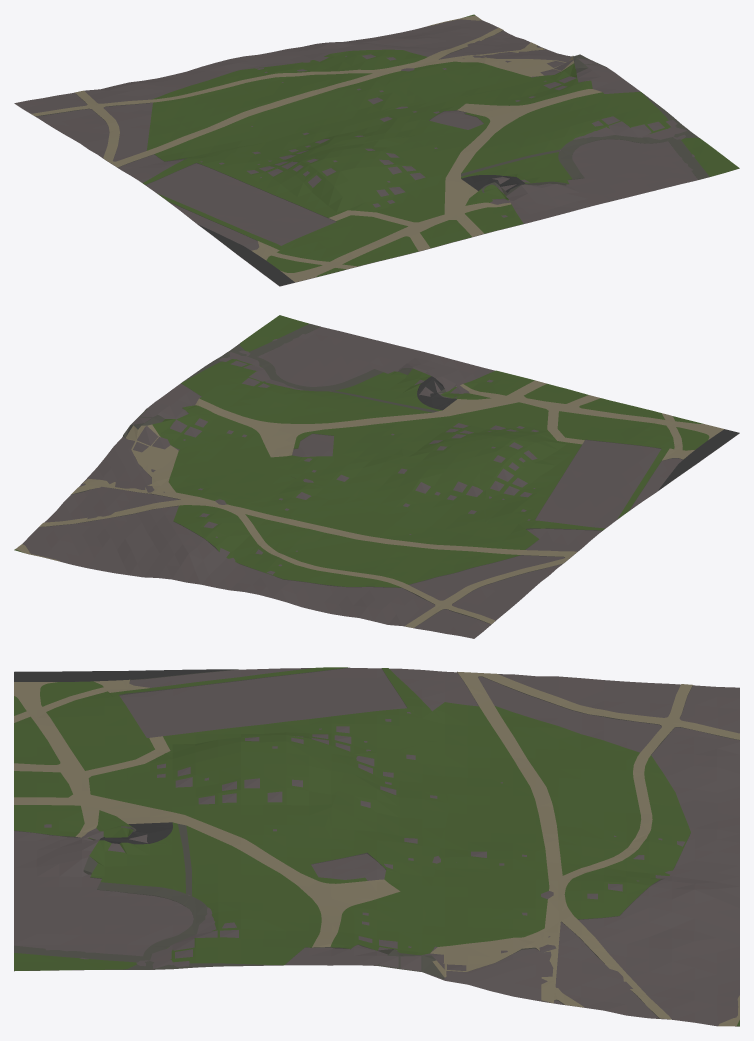
The picture shows the model from 3 angles, top to bottom: view 1: azimuth 30°, elevation 25°; view 2: azimuth 150°, elevation 25°; view 3: azimuth 270°, elevation 25°; orthographic projection. The views are drawn at different scales.
Visible parts, largest first — view 1: c_m10_m18; view 2: c_m10_m18; view 3: c_m10_m18.
Boxes of the visible parts, x1,y1,x2,y2 form: c_m10_m18: [14, 14, 739, 286]; c_m10_m18: [14, 315, 739, 638]; c_m10_m18: [14, 667, 739, 1026].
Size of the model in its own units: 128 by 14.59 by 128.
